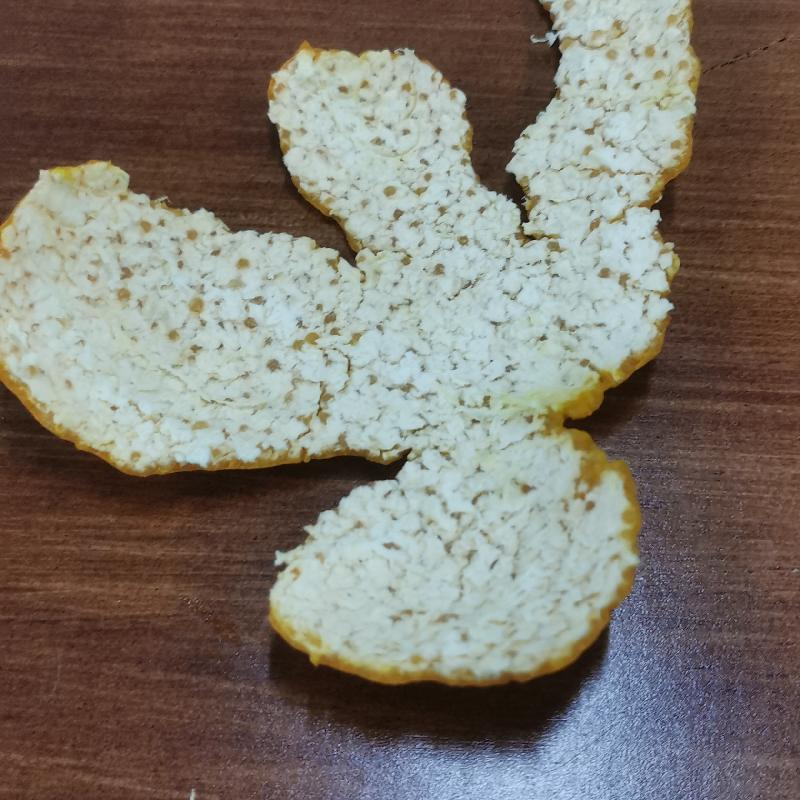orange: (1, 1, 699, 681)
